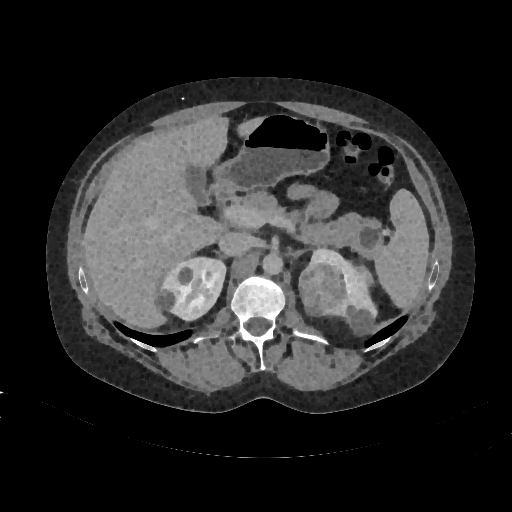Lesion: (294, 262, 351, 321), (153, 289, 181, 317)
